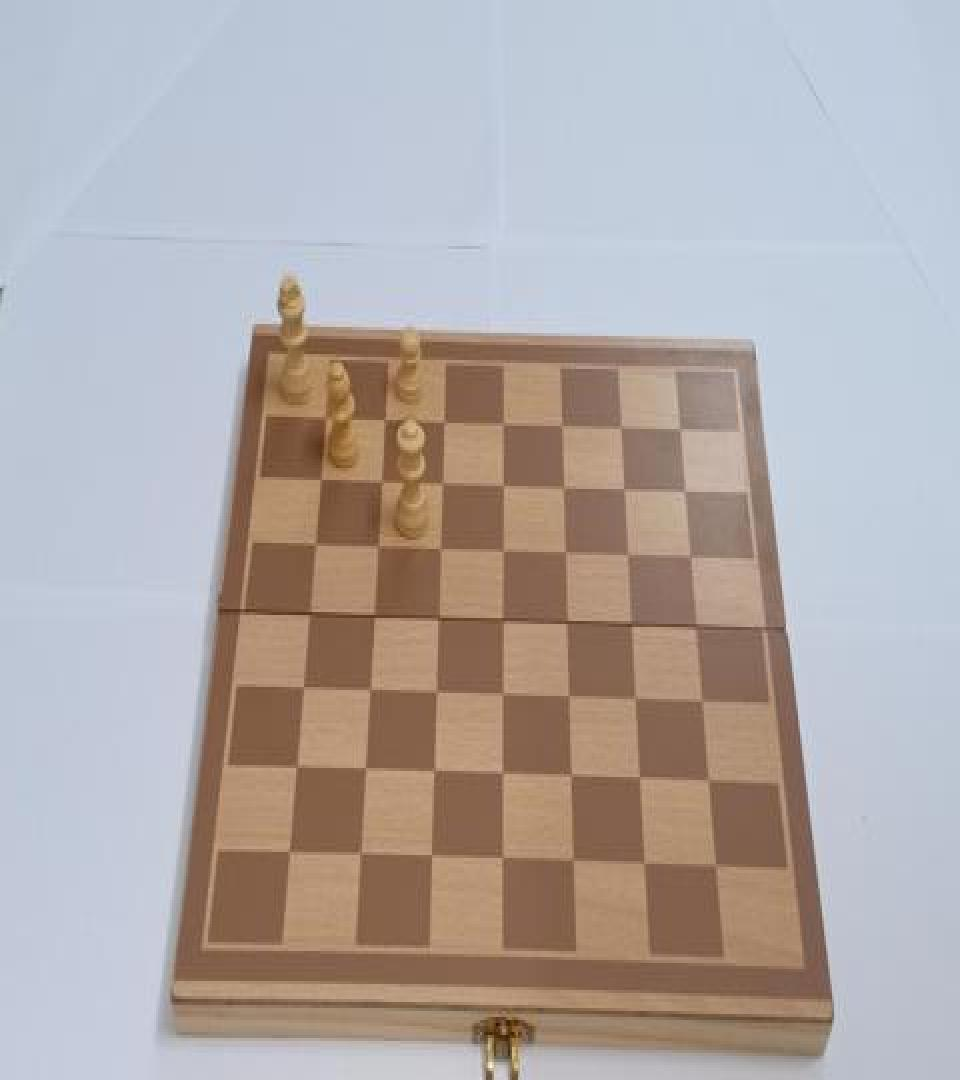xcorner: (311, 466, 329, 494), (377, 406, 395, 434), (355, 760, 373, 788), (555, 412, 573, 440), (317, 405, 335, 432), (305, 532, 323, 559), (299, 603, 317, 630), (292, 678, 310, 705), (285, 759, 303, 786), (278, 844, 296, 871), (373, 470, 391, 497), (365, 606, 383, 633), (360, 681, 378, 708), (350, 846, 368, 873), (434, 471, 452, 498), (432, 537, 450, 564), (427, 683, 445, 710), (425, 762, 443, 789), (496, 411, 514, 438), (495, 474, 513, 501), (495, 540, 513, 567), (495, 610, 513, 637), (494, 765, 512, 792), (494, 851, 512, 878), (560, 612, 578, 639), (562, 687, 580, 714), (564, 766, 582, 793), (566, 852, 584, 879), (615, 415, 633, 442), (618, 477, 636, 504), (621, 545, 639, 572), (629, 689, 647, 716), (638, 855, 656, 882), (674, 417, 692, 444), (679, 480, 697, 507), (684, 546, 702, 573), (690, 617, 708, 644), (702, 771, 720, 798), (709, 857, 727, 884), (369, 536, 387, 562), (436, 410, 454, 436), (430, 608, 448, 634), (422, 848, 440, 874), (495, 686, 513, 712), (557, 476, 575, 502), (558, 542, 576, 568), (625, 614, 643, 640), (633, 770, 651, 796), (696, 692, 714, 718)
